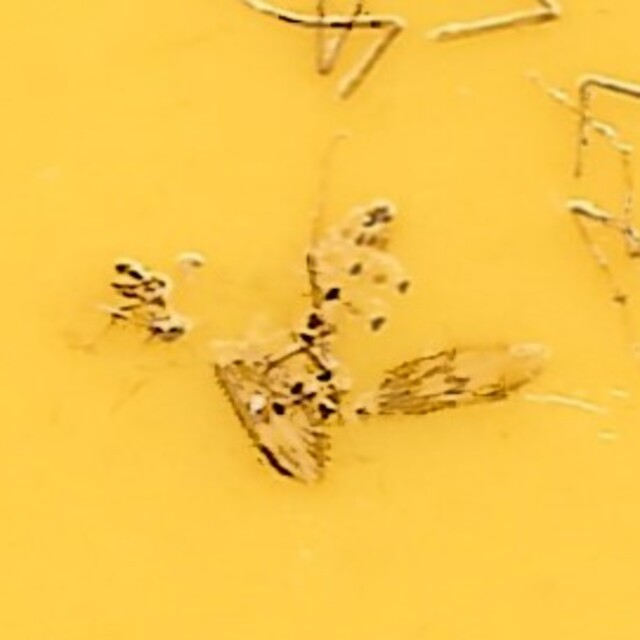Nematocera: (236, 203, 404, 437)
